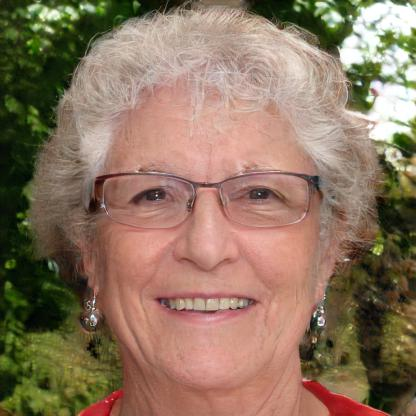glasses: (92, 165, 320, 235)
